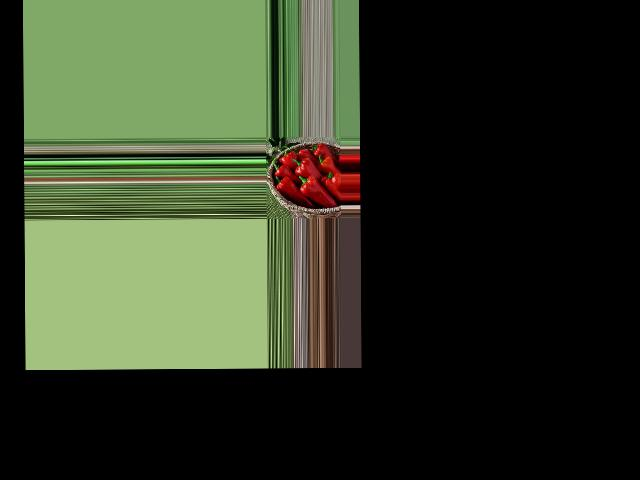bell_pepper: (271, 162, 292, 179)
